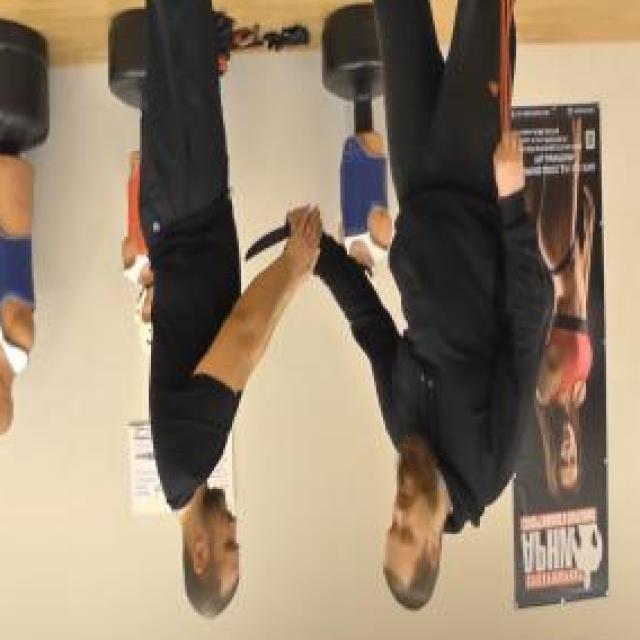knife: (243, 202, 324, 268)
